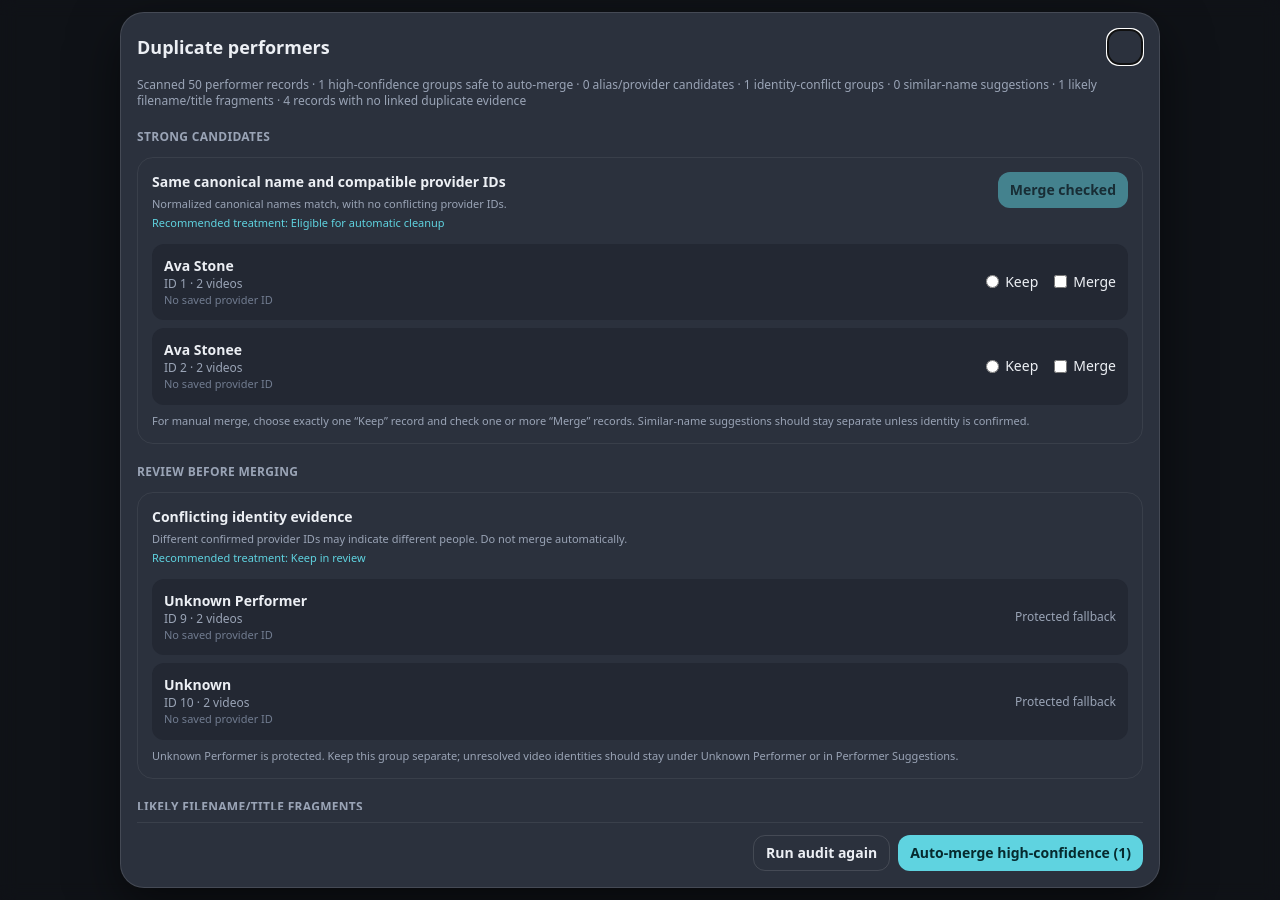
Duplicate performers: merging one group › shows the server reason when the merge fails and keeps the group
Expected: the text "Scanned 50 performer records" is shown, [137,77,1097,109]
Click the radio button with aria-label "Keep Ava Stone" at [993, 282], box [986,275,999,288]
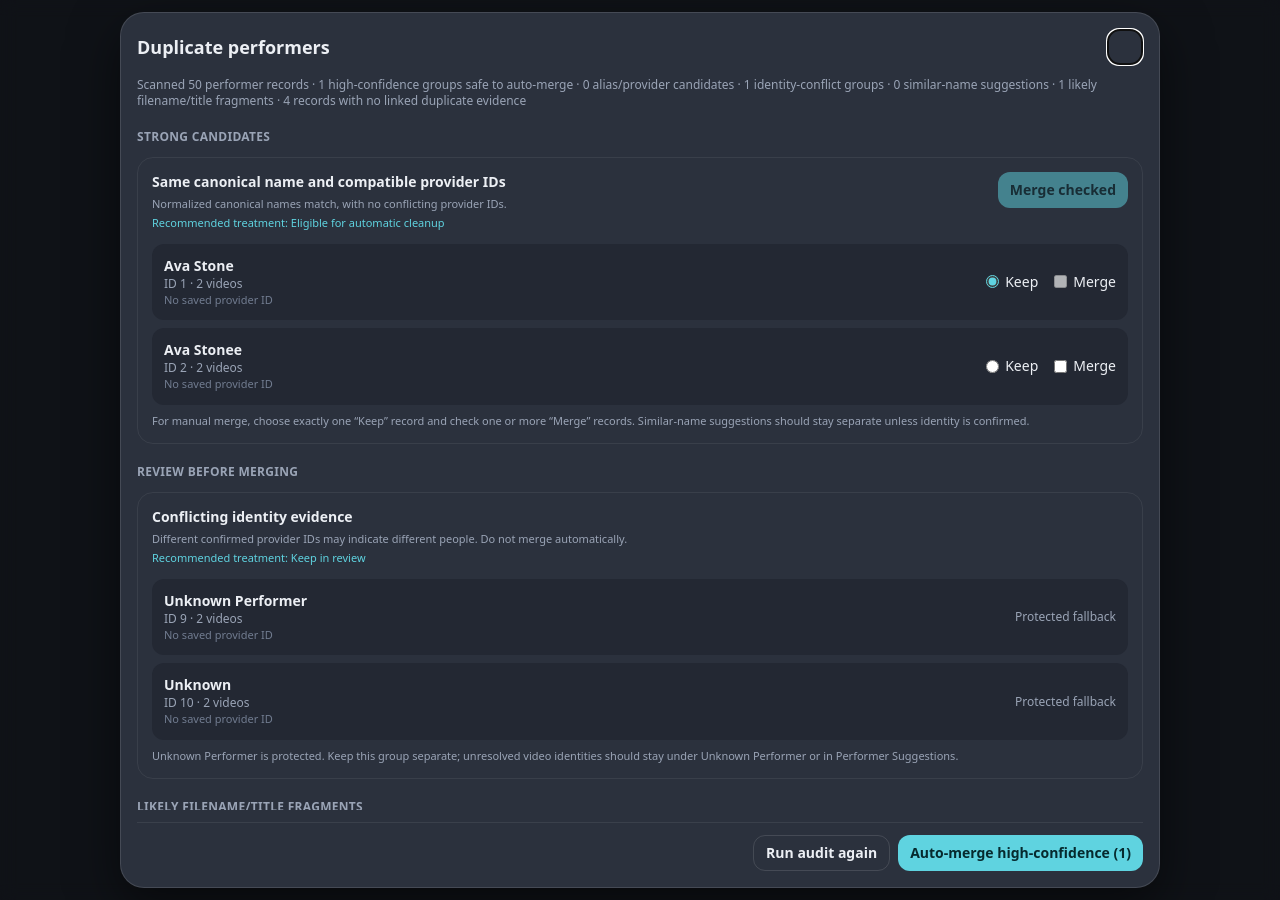
Click the checkbox named "Merge Ava Stonee" at [1061, 366], box [1054,360,1067,373]
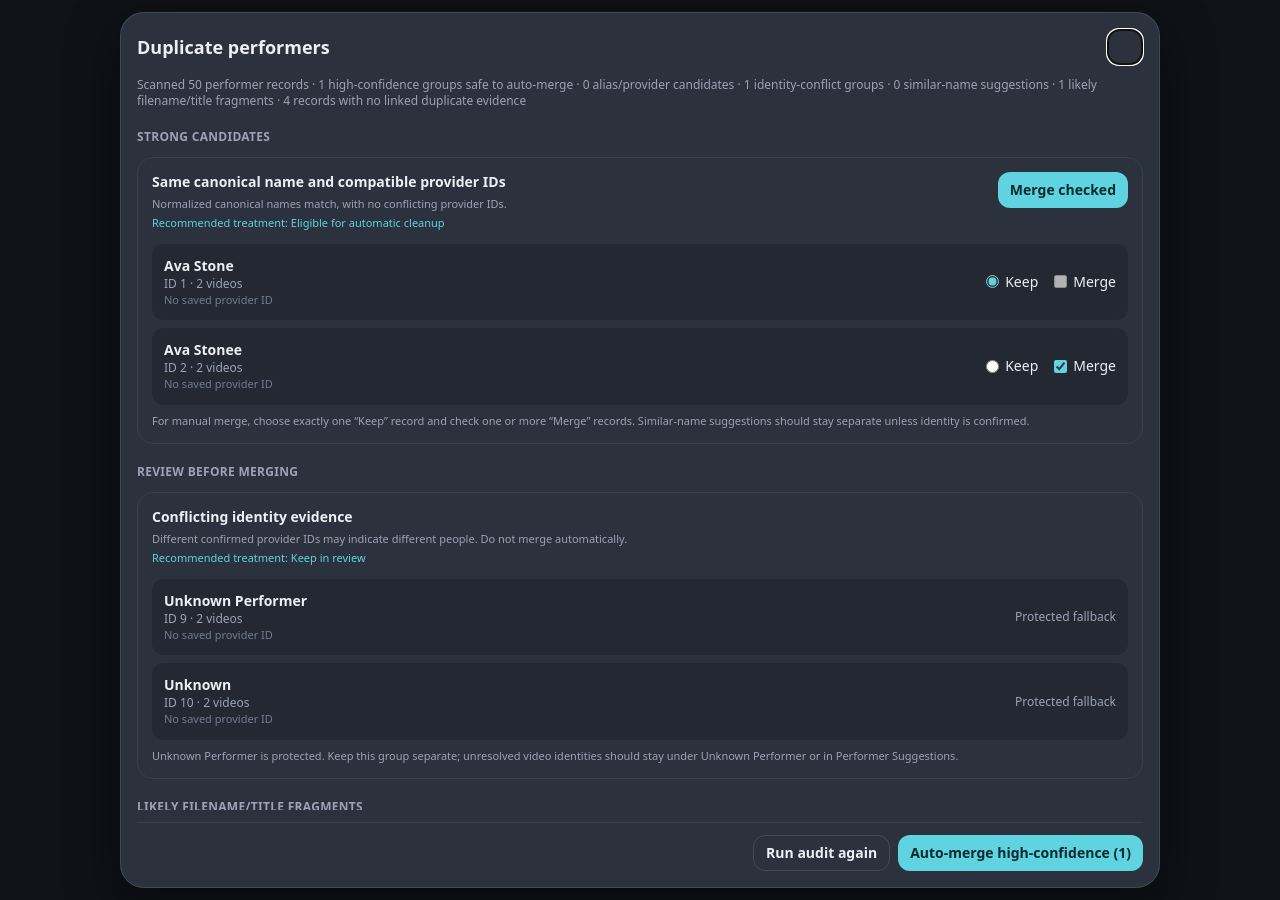
Click the button "Merge checked" at [1063, 190], box [998,172,1128,208]
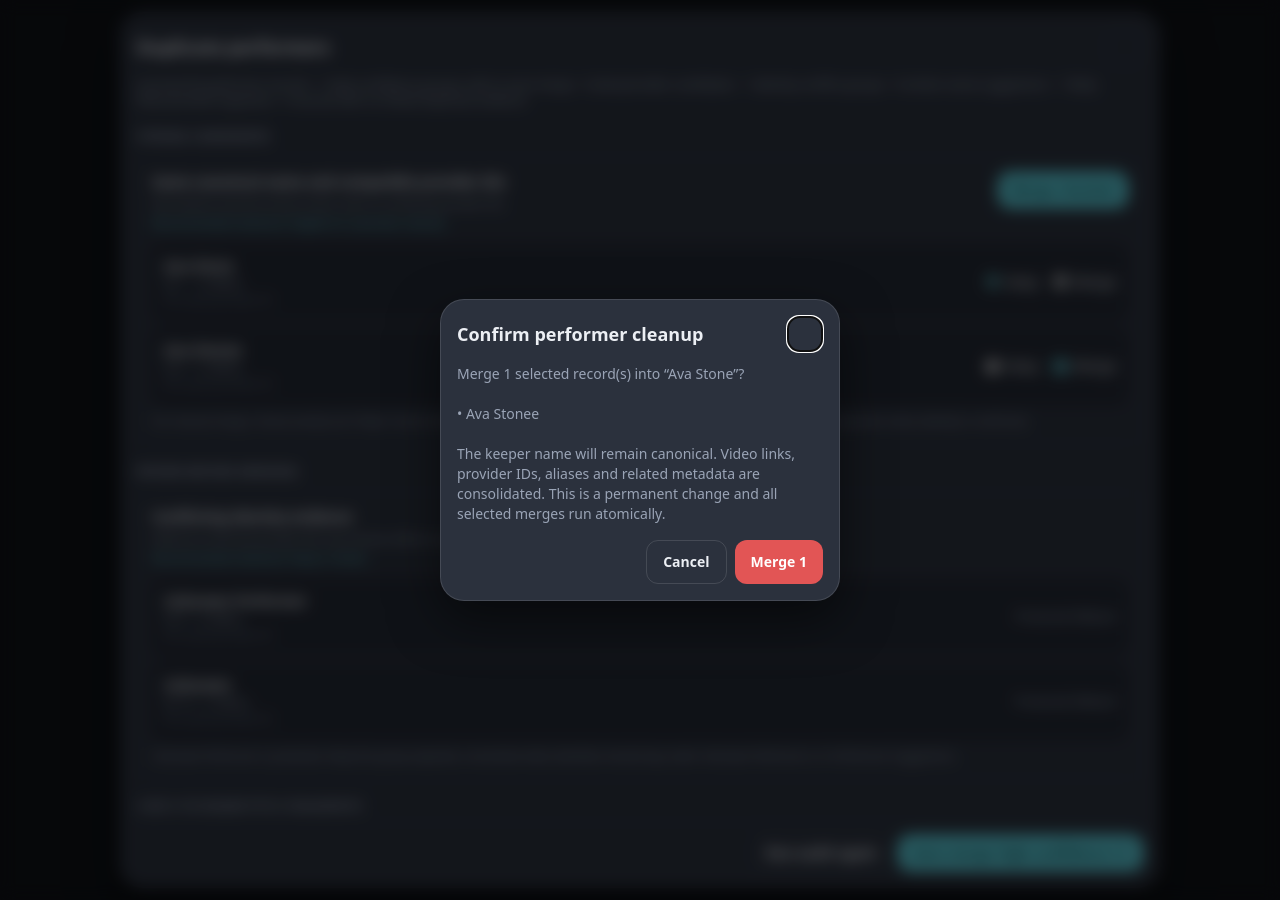
Click the button "Merge 1" at [779, 562], box [734,540,823,584]
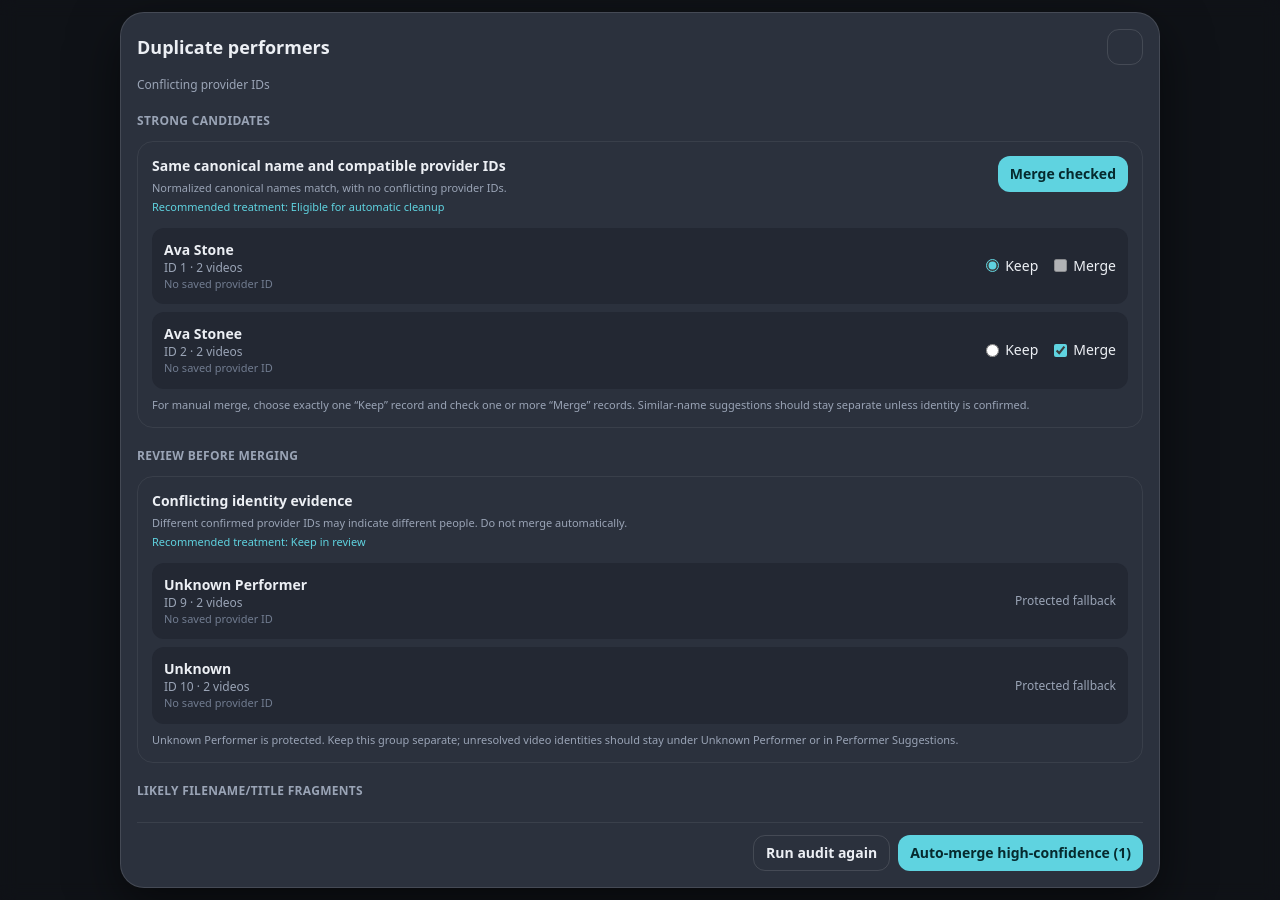
Expected: the element "Same canonical name and compatible provider IDs" is shown, [137,141,1143,428]
Expected: the text "Conflicting provider IDs" is shown, [137,77,270,93]
